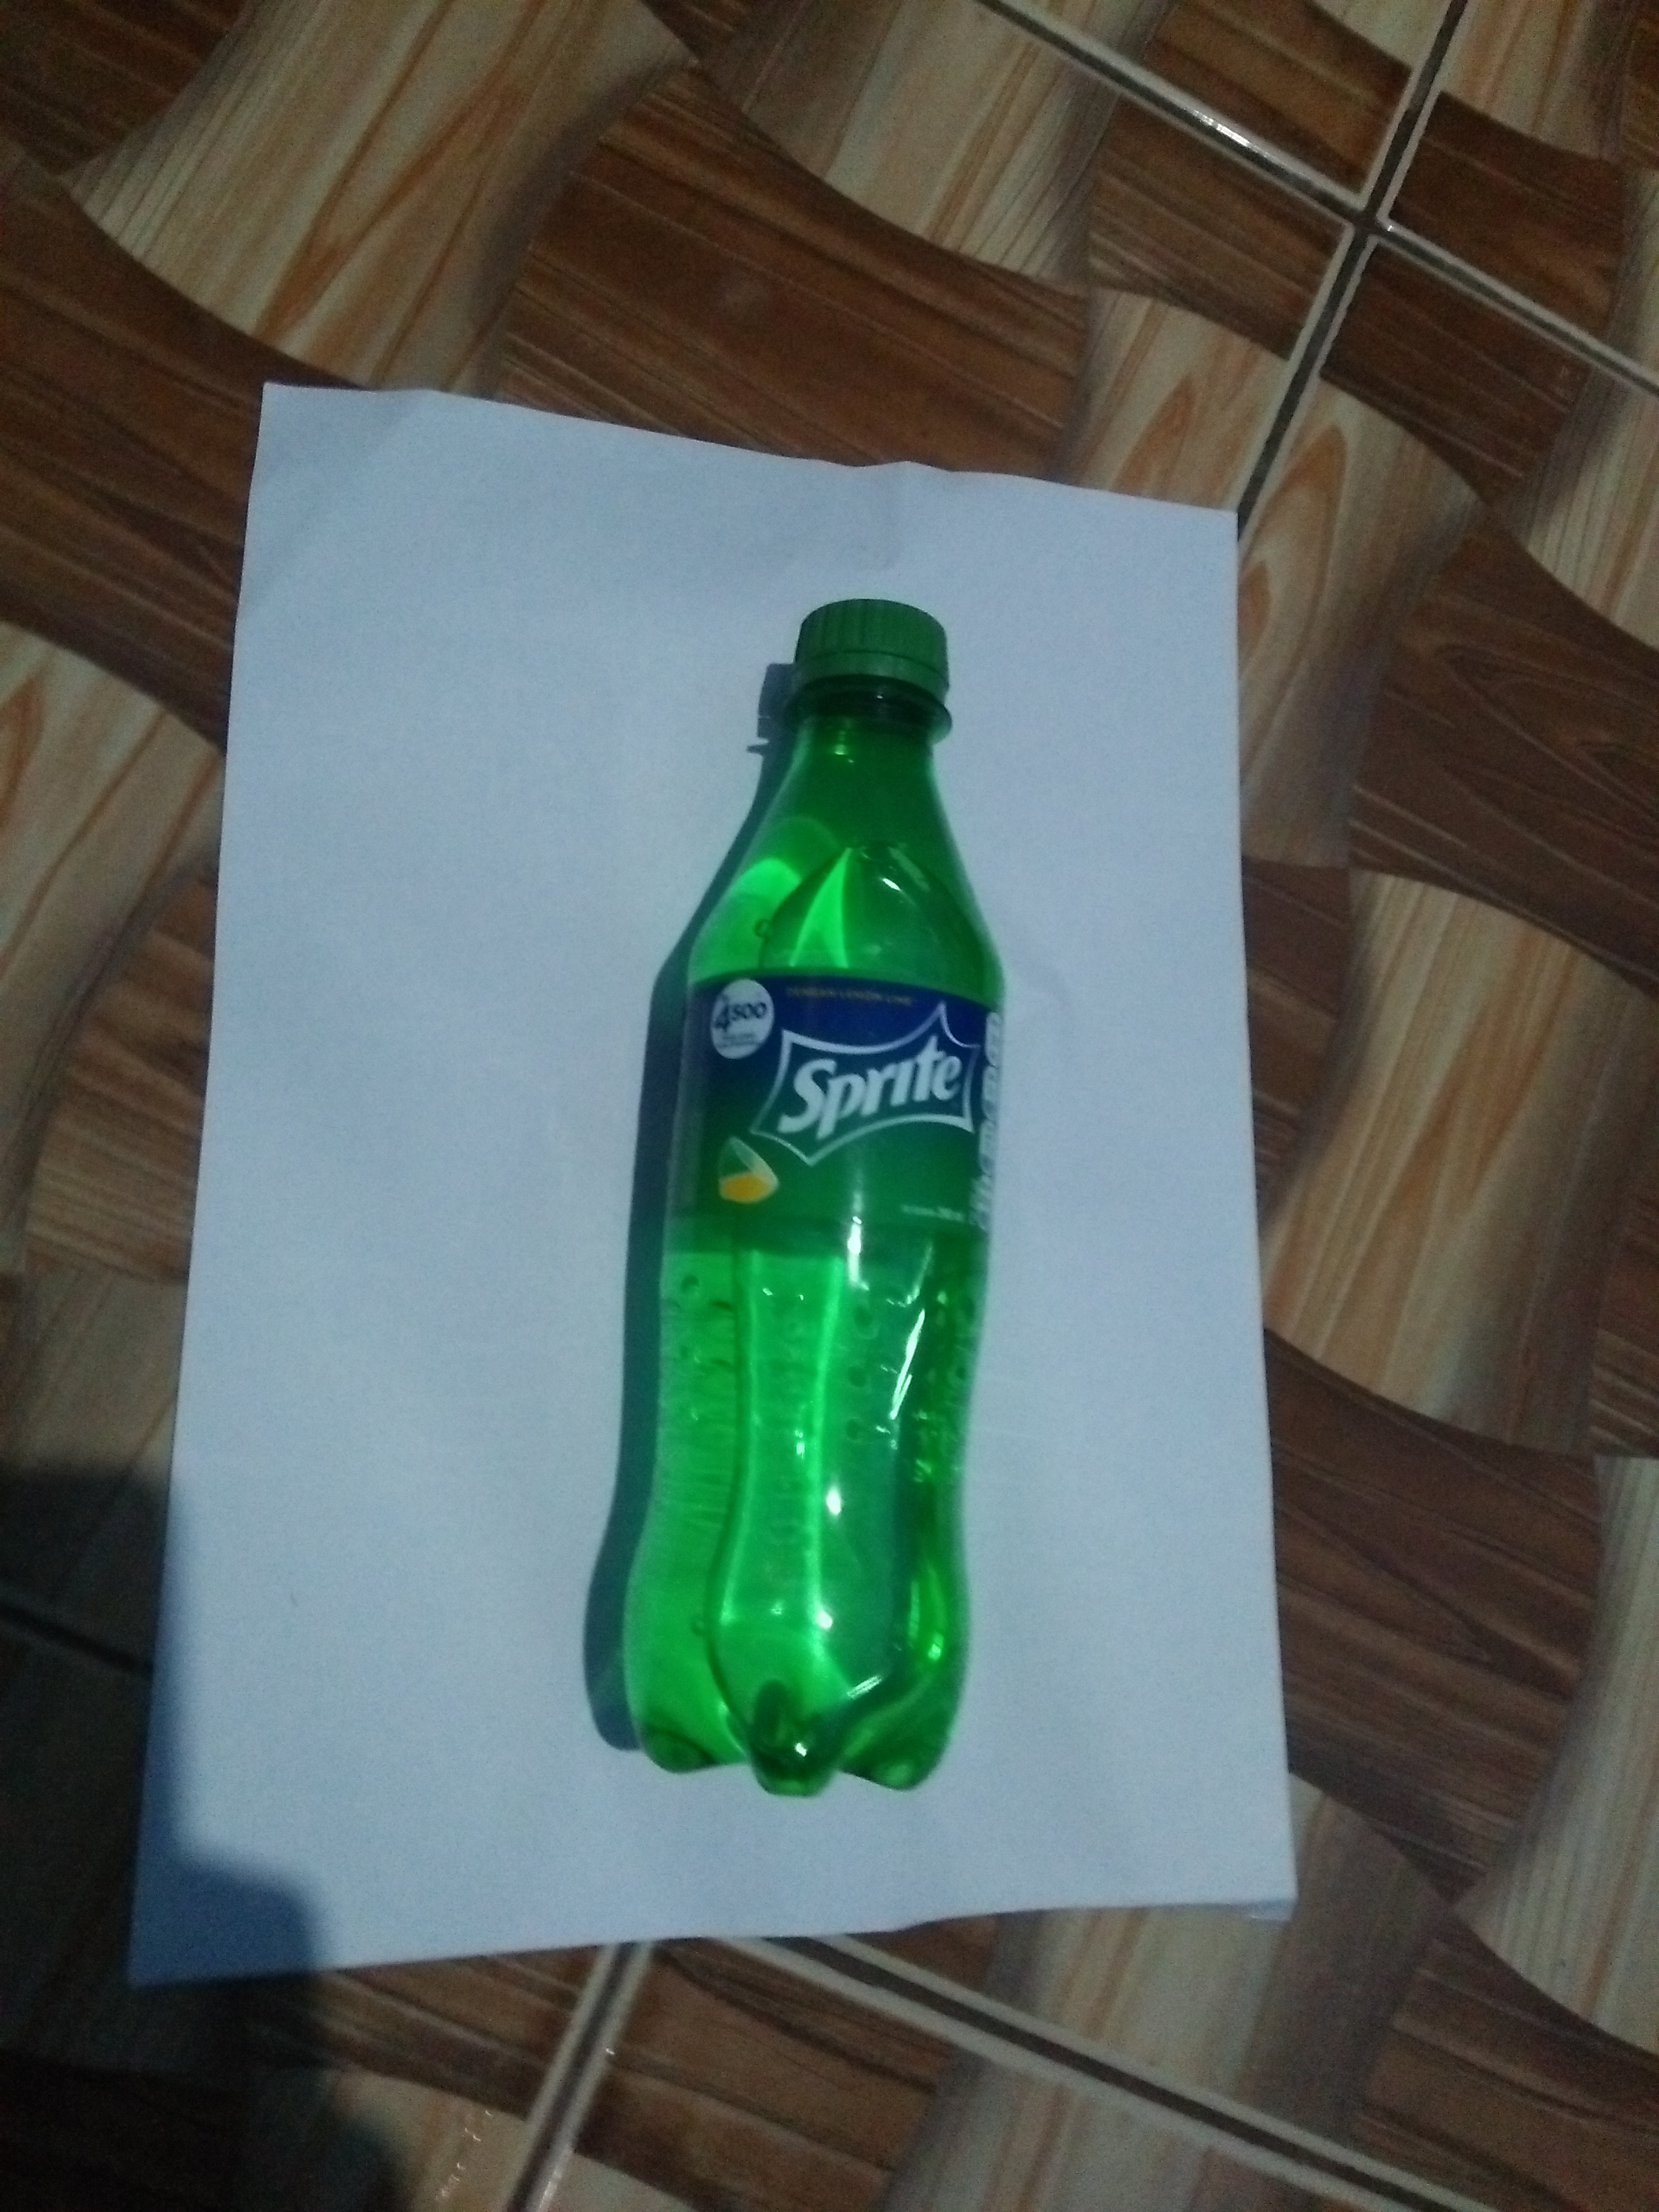Sprite: (617, 583, 1018, 1836)
